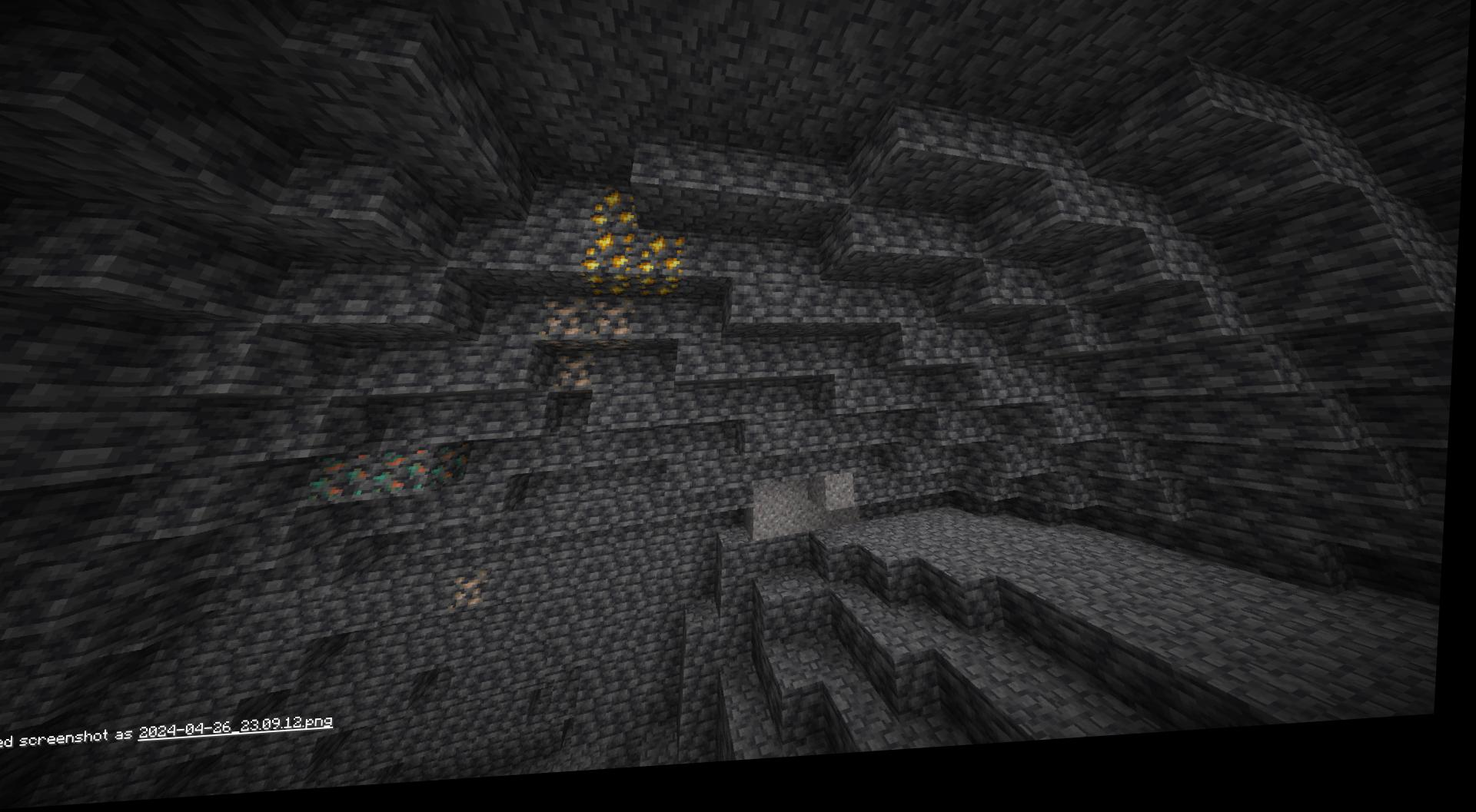gold ore: (588, 190, 642, 243), (639, 239, 692, 286), (587, 235, 638, 281), (636, 284, 686, 311), (587, 279, 633, 305)
iron ore: (585, 302, 646, 350), (542, 303, 591, 348), (555, 355, 600, 399), (453, 573, 495, 620)
